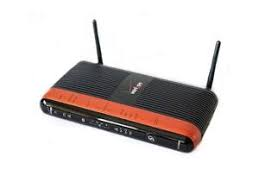Verizon Router: (43, 20, 228, 157)
